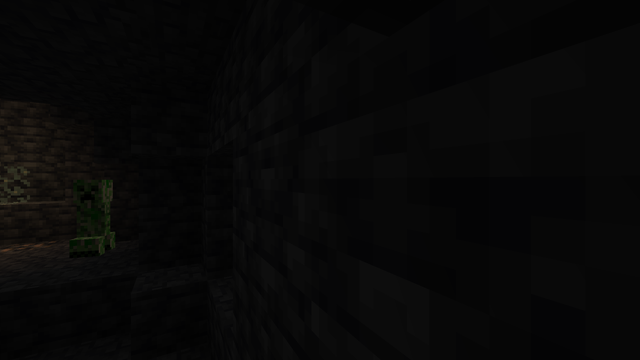creepers: (71, 176, 113, 257)
